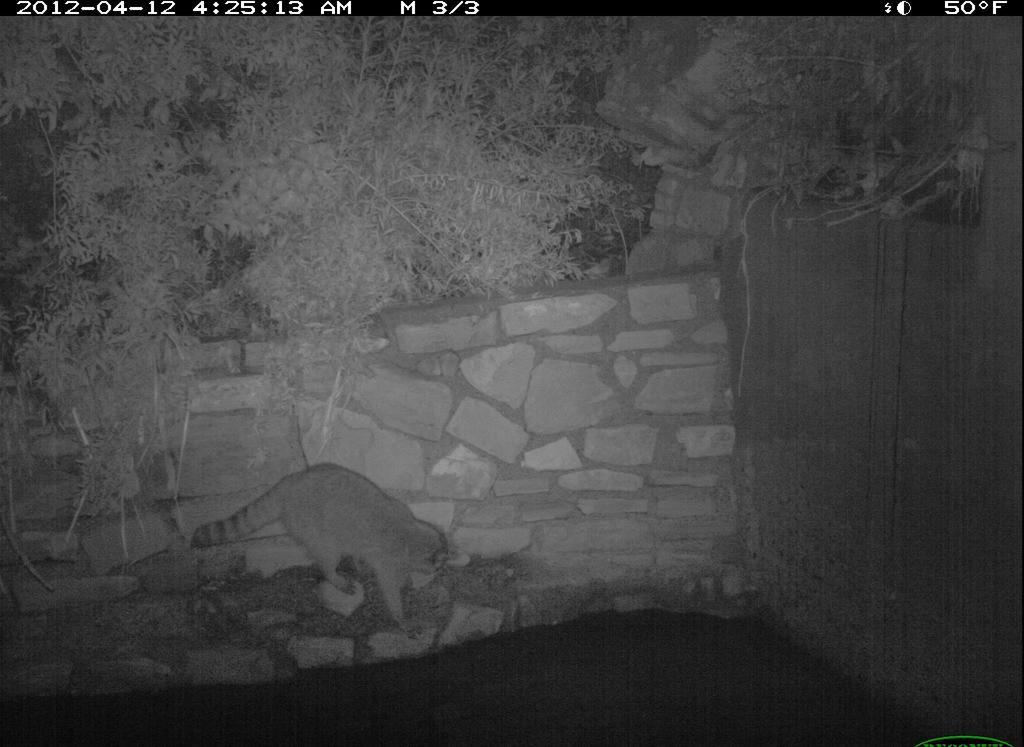raccoon: (185, 459, 461, 630)
